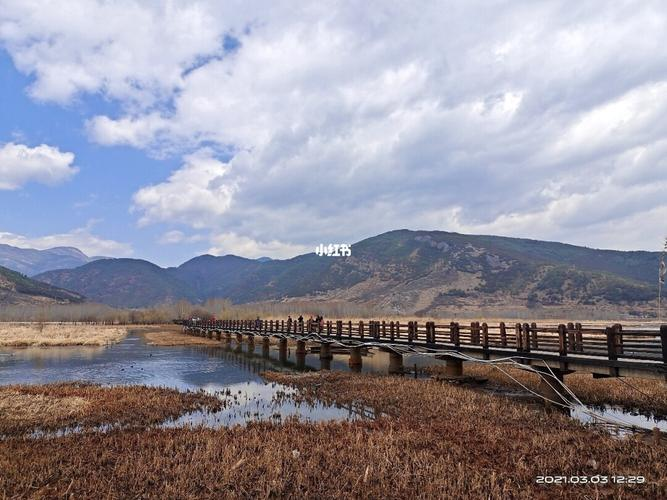mountain: (0, 216, 660, 321)
sky_cloud: (3, 52, 660, 223)
